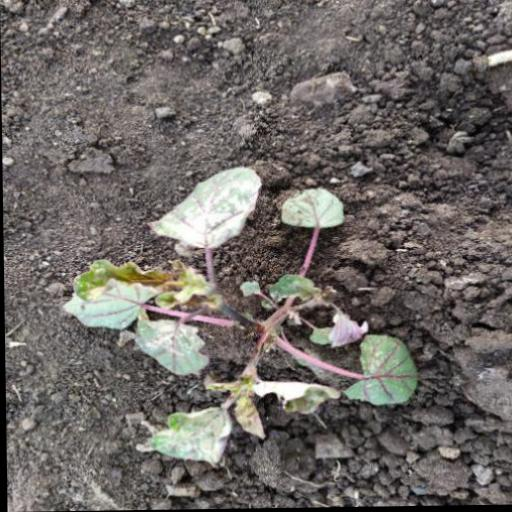crop: (57, 163, 422, 472)
